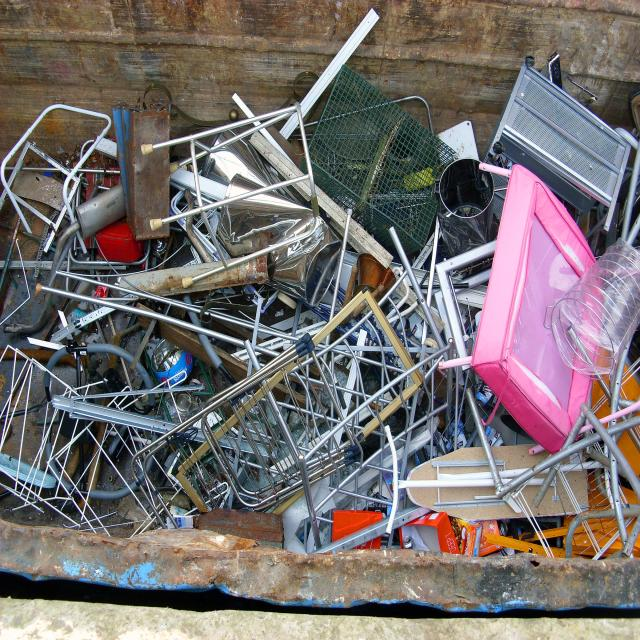metal: (59, 132, 417, 472)
